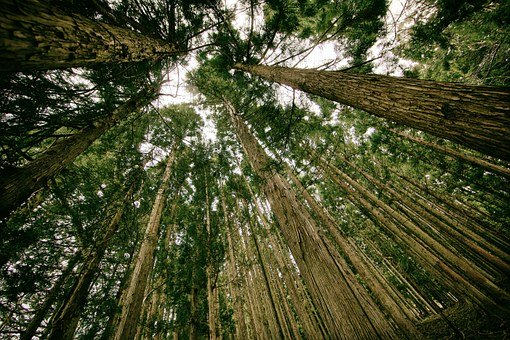forest: (6, 4, 505, 335)
tree: (199, 56, 382, 340), (200, 12, 510, 159), (111, 129, 240, 340), (14, 7, 218, 103)
